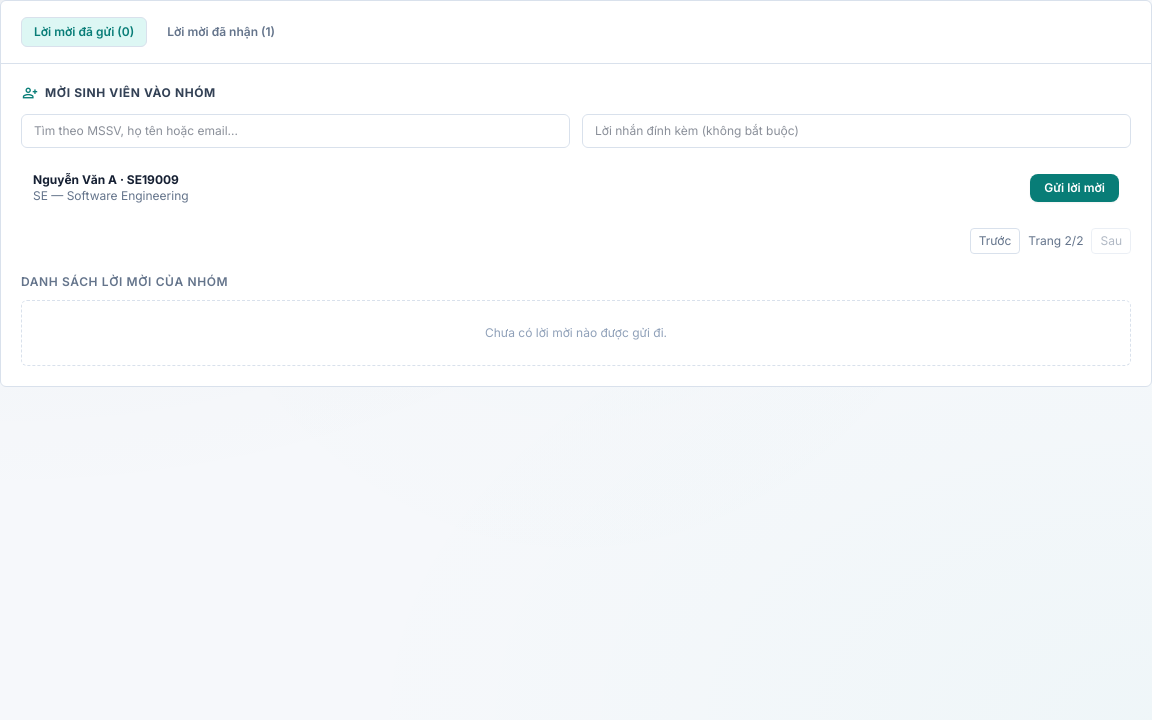
Test: TeamInvitationsPanel › displays inviter name from invitedByName and formats expiration with dateTimeLabel
The width and height of the screenshot is (1152, 720).
Click the button "Lời mời đã nhận (1)" at (221, 32), box [155,18,287,46]
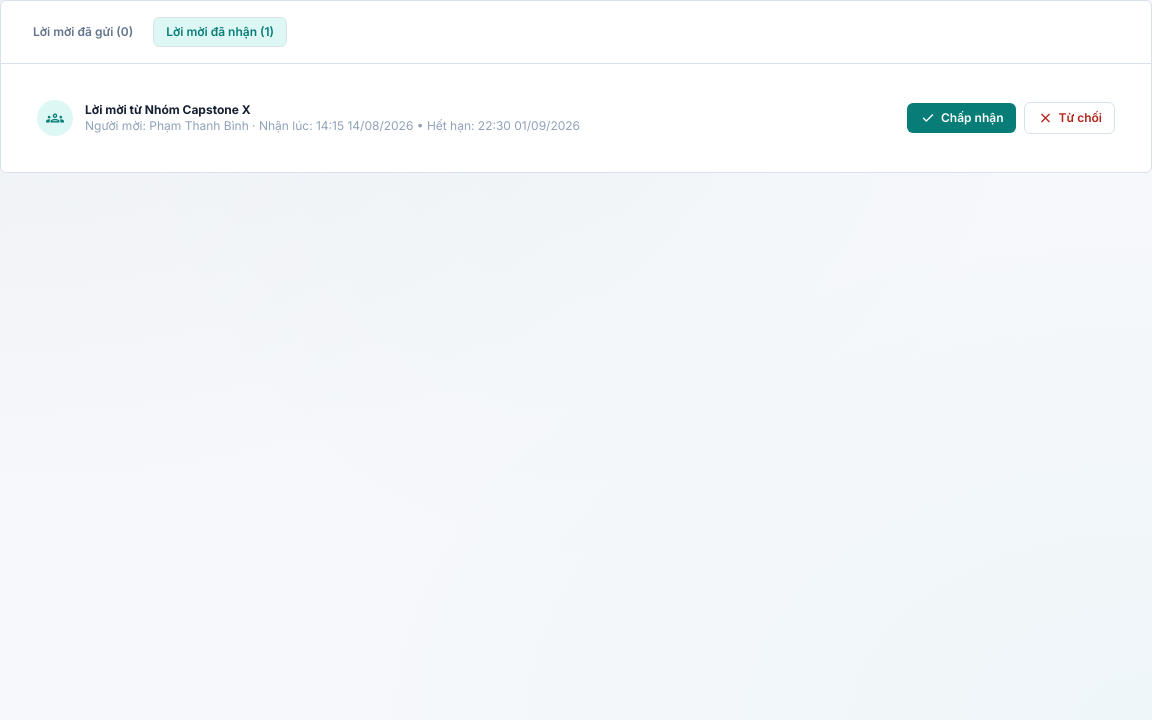
Now the text "Lời mời từ Nhóm Capstone X" is shown, box [85,102,251,117]
Now the text "Người mời: Phạm Thanh Bình" is shown, box [85,118,259,133]
